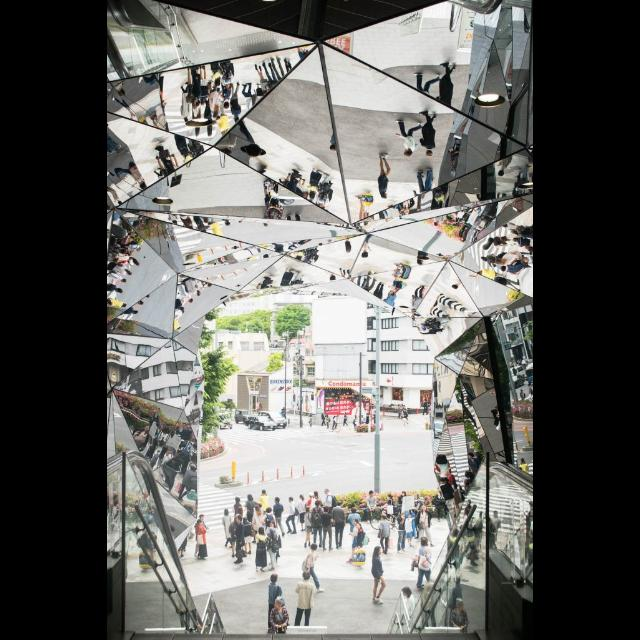head: (276, 599, 284, 609), (236, 514, 244, 524), (375, 546, 383, 556), (304, 571, 312, 579), (258, 527, 266, 535), (356, 523, 364, 531), (403, 588, 411, 596), (310, 544, 318, 552), (272, 575, 278, 583), (238, 508, 244, 516), (266, 508, 274, 514), (289, 496, 295, 504), (325, 506, 331, 514), (354, 518, 360, 526), (402, 509, 408, 516), (197, 520, 203, 526), (200, 515, 206, 521), (224, 509, 230, 515), (234, 516, 240, 522), (236, 497, 242, 503), (270, 528, 276, 534), (270, 522, 276, 528), (275, 498, 281, 504), (262, 490, 268, 496), (307, 507, 313, 513), (316, 501, 322, 507), (338, 502, 344, 508), (325, 489, 331, 495), (352, 508, 358, 514), (370, 491, 376, 497), (388, 495, 394, 501), (402, 491, 408, 497), (422, 505, 428, 511), (418, 497, 424, 503), (422, 540, 428, 546), (382, 514, 388, 520), (424, 504, 428, 512), (248, 496, 254, 500), (256, 505, 260, 511), (408, 512, 412, 518), (244, 518, 248, 522), (300, 496, 304, 500), (315, 492, 319, 496), (425, 400, 427, 402), (405, 409, 407, 411), (401, 405, 403, 407), (367, 414, 369, 416), (355, 416, 357, 418), (346, 414, 348, 416), (328, 416, 330, 418), (323, 412, 325, 414)
person: (293, 569, 315, 631), (411, 536, 435, 590), (302, 544, 326, 594), (266, 572, 284, 634), (371, 545, 389, 605), (351, 522, 371, 568), (345, 517, 363, 563), (331, 499, 347, 549), (265, 520, 281, 566), (266, 527, 282, 571), (418, 504, 434, 548), (233, 514, 247, 564), (311, 499, 325, 549), (194, 514, 210, 556), (320, 504, 334, 552), (254, 526, 268, 572), (402, 509, 418, 549), (229, 514, 243, 558), (378, 512, 392, 556), (346, 506, 362, 544), (273, 496, 287, 538), (382, 493, 398, 529), (396, 506, 408, 554), (264, 507, 278, 548), (251, 503, 265, 543), (296, 493, 310, 532), (286, 496, 300, 534), (196, 519, 208, 561), (303, 506, 315, 548), (222, 508, 234, 548), (242, 516, 254, 556), (235, 506, 247, 544), (416, 501, 428, 539), (324, 489, 338, 521), (310, 490, 324, 522), (245, 493, 257, 529), (366, 489, 378, 525), (414, 492, 428, 522), (259, 489, 271, 523), (233, 496, 244, 532), (398, 490, 410, 514), (402, 408, 410, 426), (423, 398, 429, 416), (398, 403, 404, 421), (365, 412, 371, 430), (353, 414, 359, 432), (343, 412, 349, 428), (325, 414, 331, 430), (321, 411, 327, 427)
